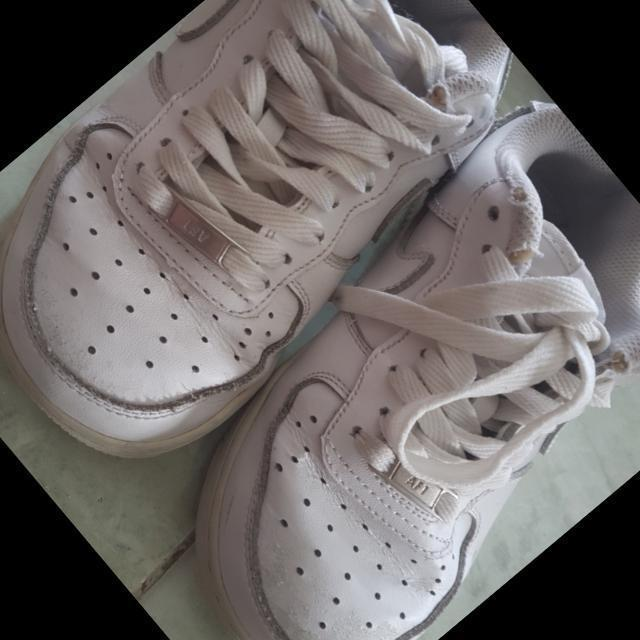nike original air force: (0, 6, 607, 640), (160, 0, 640, 523)
